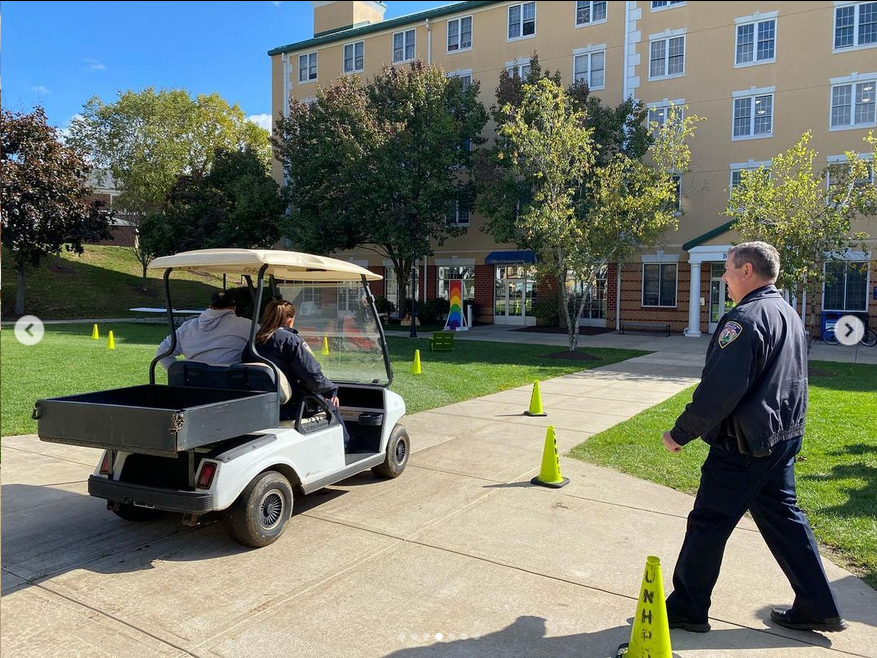Security: (662, 230, 815, 551)
